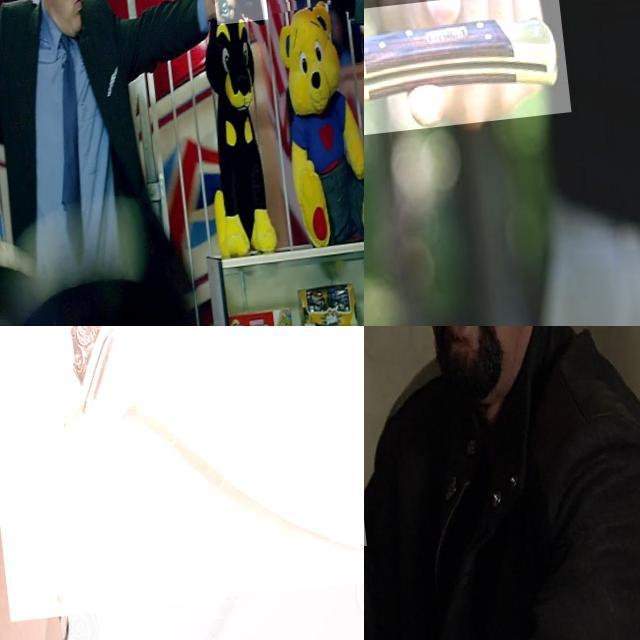-: (0, 326, 364, 625), (364, 0, 587, 162)
gun-knife-thesis - v11 Yolov5 augmented: (364, 346, 402, 556), (256, 0, 327, 55), (205, 0, 263, 45)
